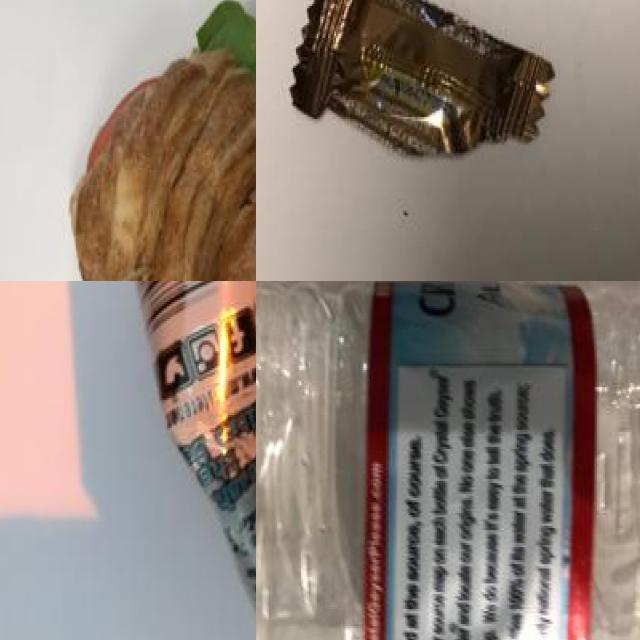compost: (38, 0, 256, 281)
plastic: (256, 281, 640, 640), (109, 281, 256, 640)
trash: (282, 0, 599, 190)
